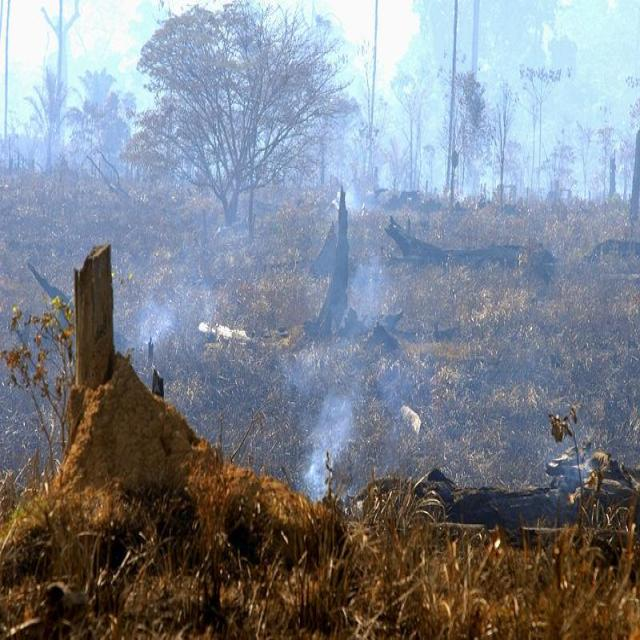Smoke: (296, 380, 359, 533), (336, 239, 398, 344), (122, 282, 184, 375)
